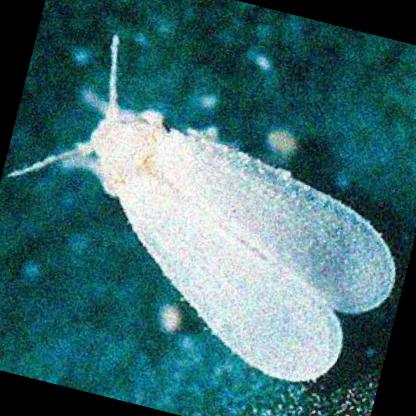whitefly: (7, 41, 391, 386)
